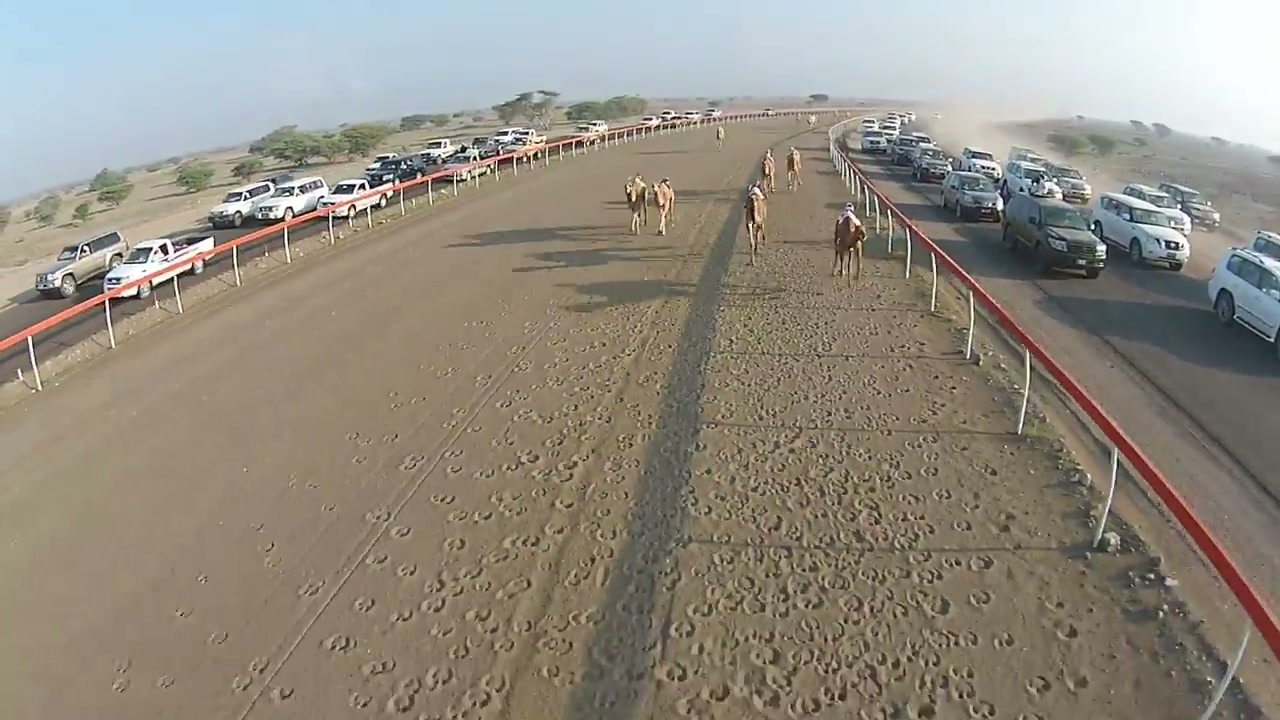animal_foot_print: (262, 243, 1202, 718), (655, 246, 1176, 717), (314, 340, 643, 716), (387, 323, 646, 693)
